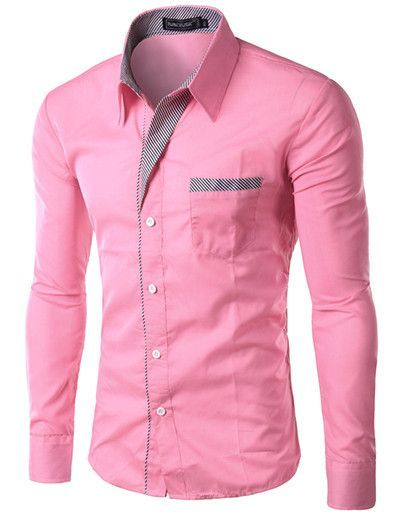Shirt: (16, 3, 385, 512)
